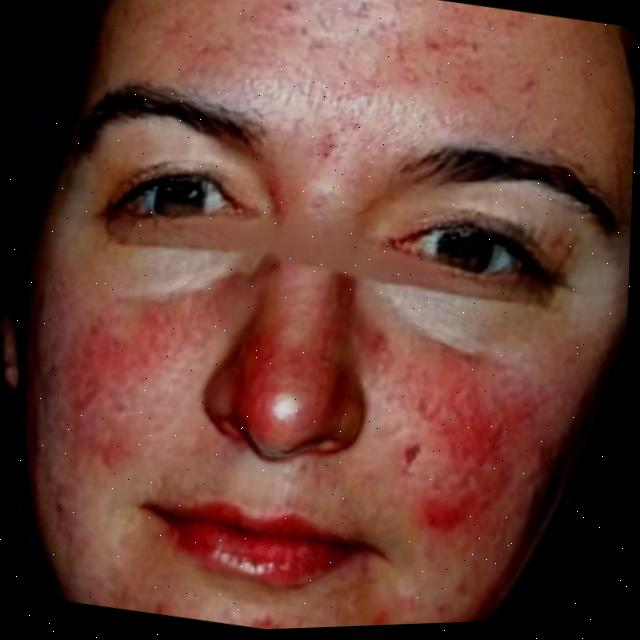Rosacea: (353, 326, 547, 537), (97, 539, 456, 636), (43, 291, 206, 485)
